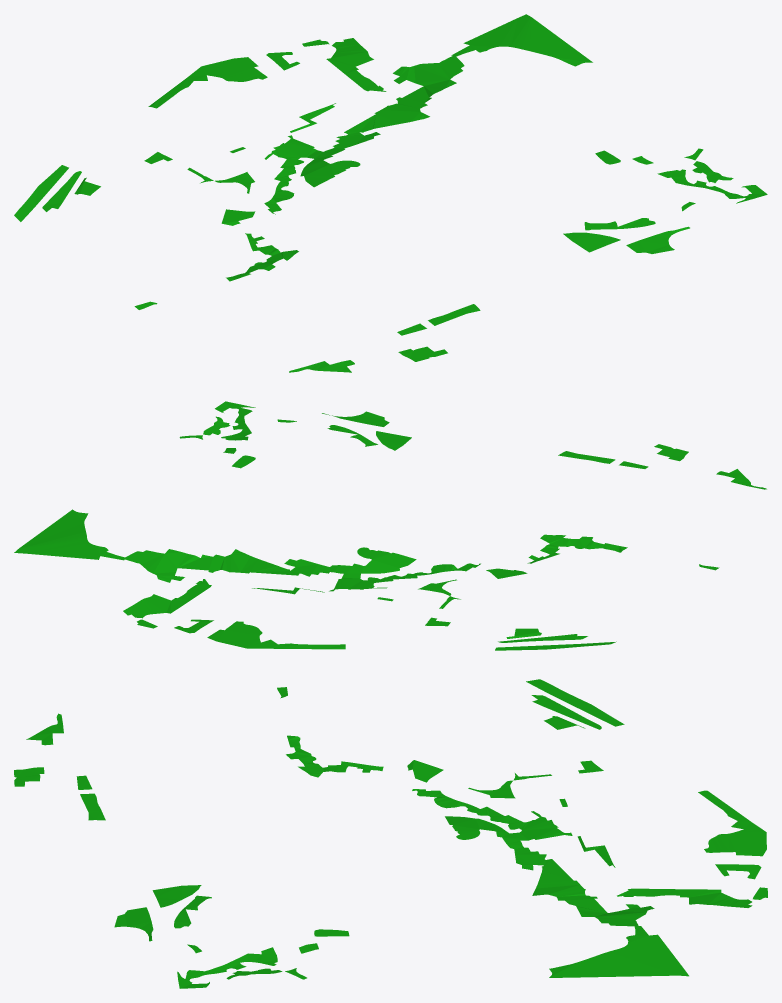
Rendered from Zalesienie.gltf.
3 renders of one model, top to bottom at view 1: azimuth 30°, elevation 25°; view 2: azimuth 150°, elevation 25°; view 3: azimuth 270°, elevation 25°, orthographic. The views are drawn at different scales.
Visible parts, largest first — view 1: Przycięte; view 2: Przycięte; view 3: Przycięte.
Boxes of the visible parts, <box> form: Przycięte: <box>14,14,767,372</box>; Przycięte: <box>14,401,766,650</box>; Przycięte: <box>14,679,767,988</box>.
Size of what is drawn, in the model's own units: 2240 by 67.23 by 2307.
